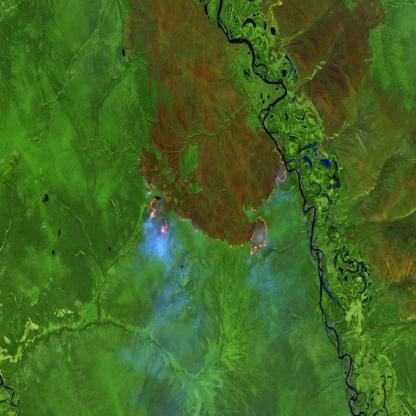fire: (141, 143, 288, 252)
